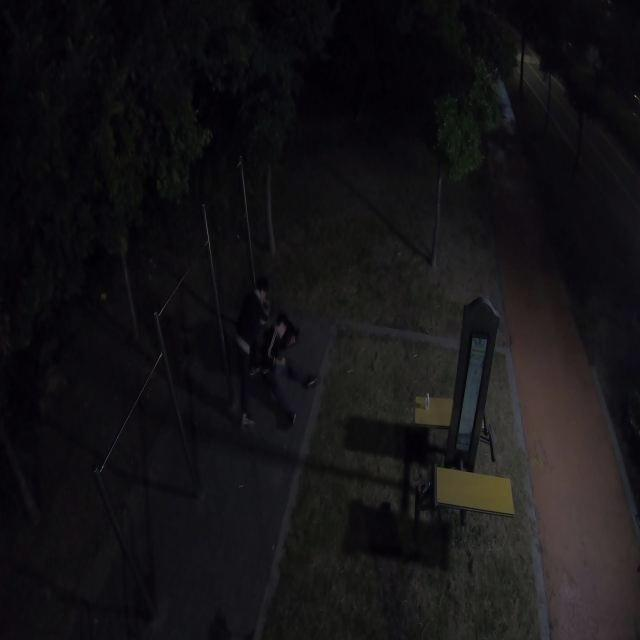fight: (230, 271, 319, 431)
